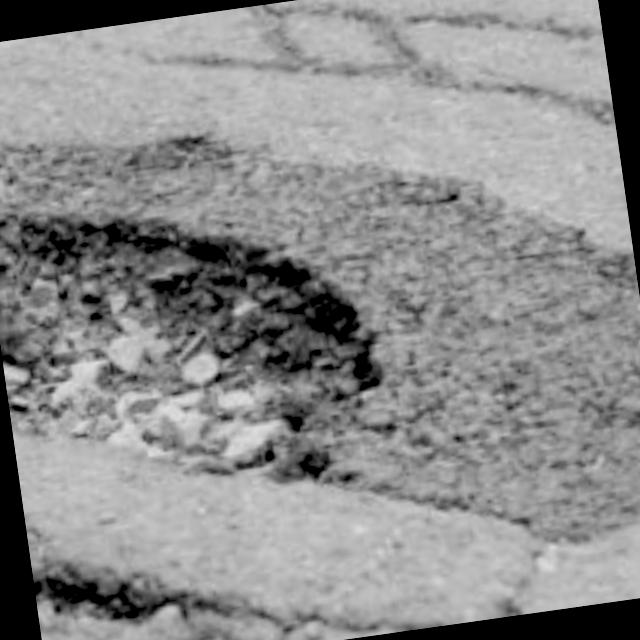Pothole: (0, 132, 388, 541), (29, 527, 194, 640)
